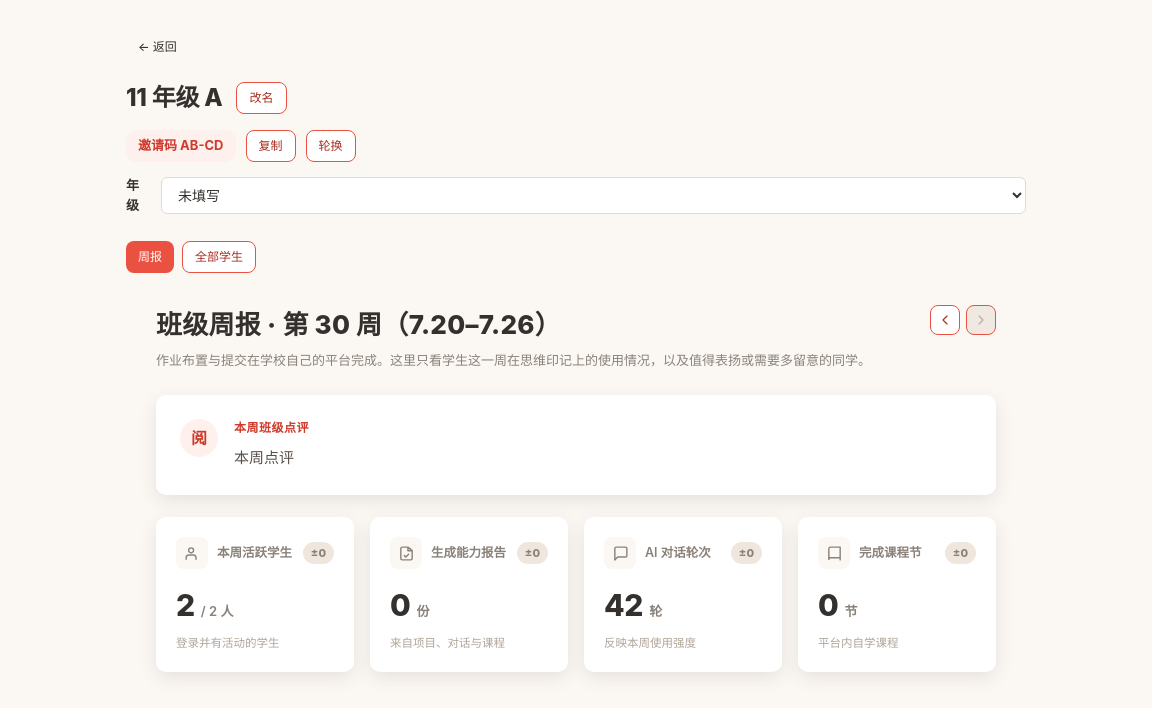
Scenario: ClassDetailView mutations › regenerates the join code only after confirming
Click the button "轮换" at coordinates (330, 146), box [306, 130, 356, 162]
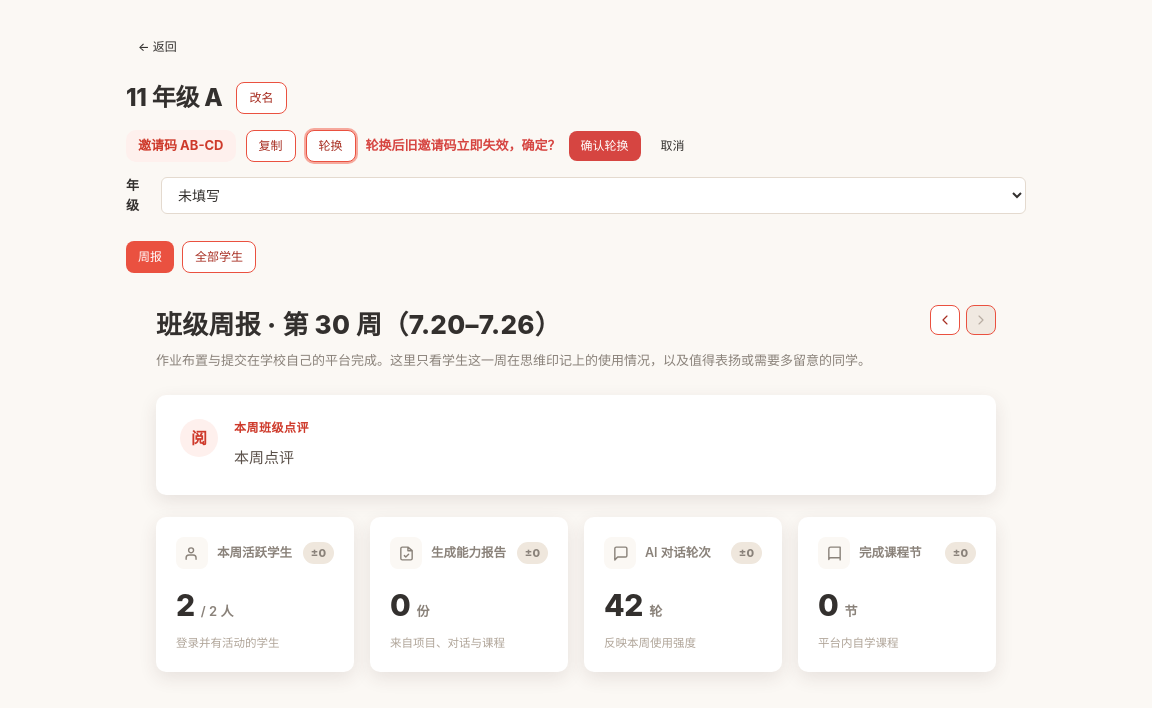
Click the button "确认轮换" at coordinates (604, 146), box [568, 131, 640, 161]
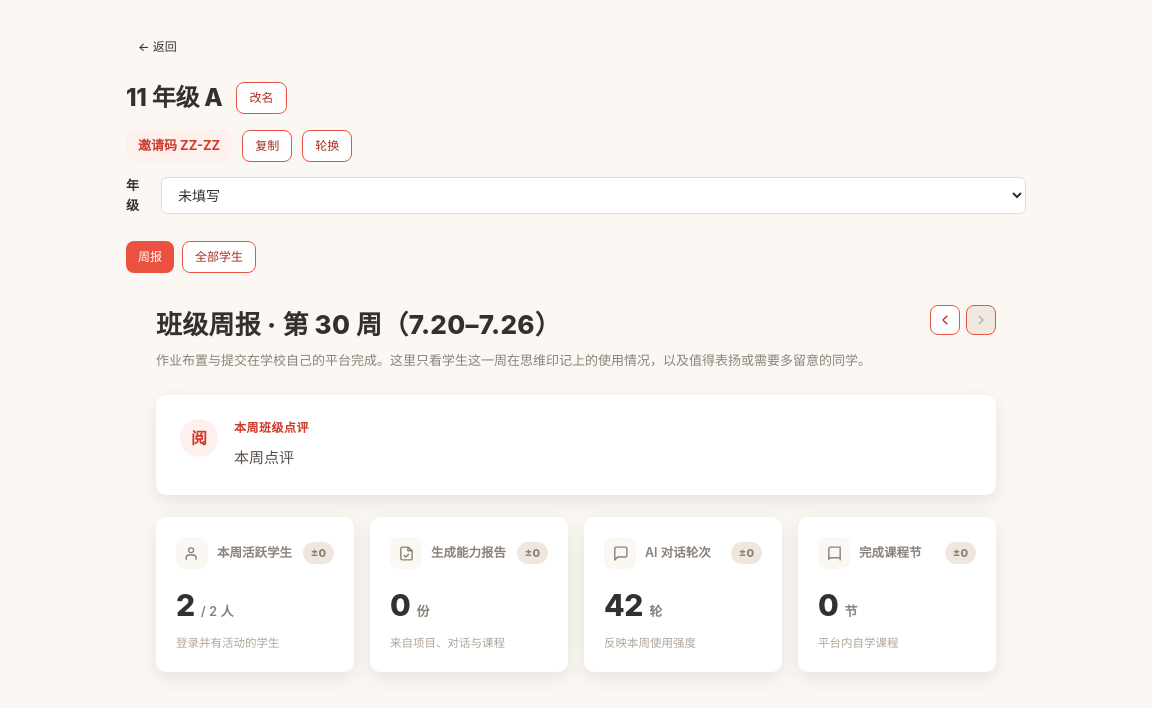
Check: the text "邀请码 ZZ-ZZ" is shown, box [126, 130, 232, 162]
